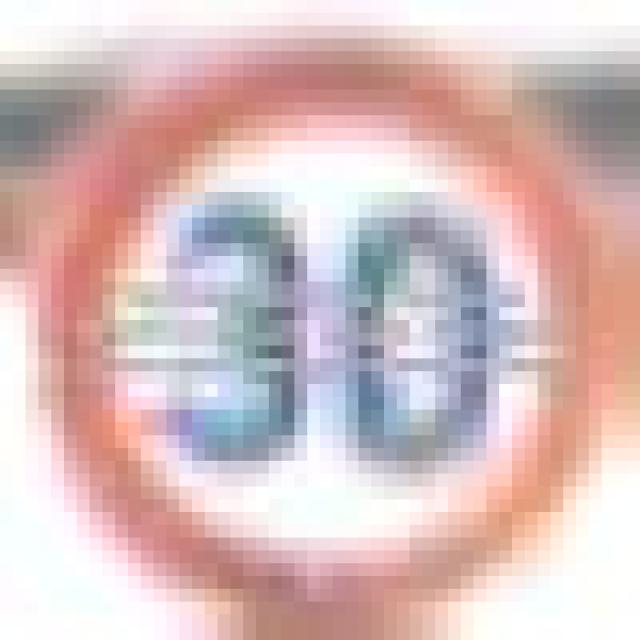SPEED_LIMIT_30: (13, 12, 589, 602)
